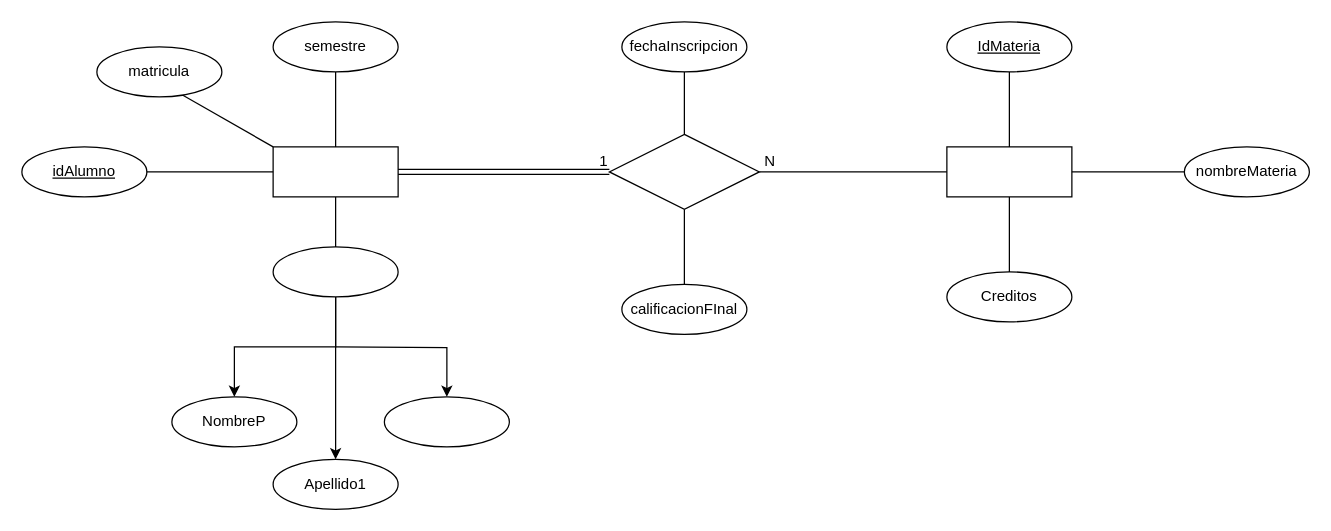
Image size: 1331x531. Some labels were removed from this diagram. Each missing label, with the centre of its shape:
ALUMNO: (x=335, y=171)
Apellido2: (x=446, y=421)
INSCRIBE: (x=683, y=171)
MATERIA: (x=1009, y=171)
Nombre: (x=335, y=271)
